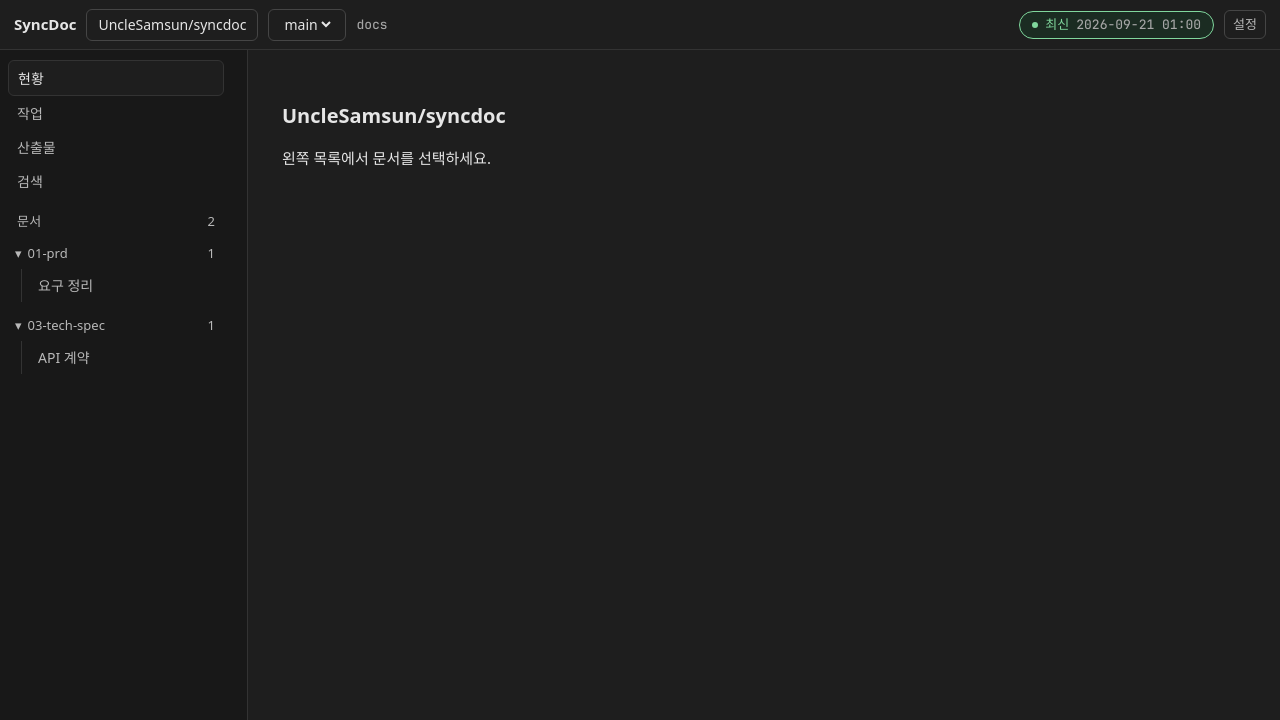
Test case: 문서 트리 › remembers a collapsed folder for the next visit
The image size is (1280, 720).
Check: the link "요구 정리" is shown, box [38, 276, 93, 294]
Click the button "▾ 01-prd 1" at coordinates (116, 252), box [8, 238, 224, 268]
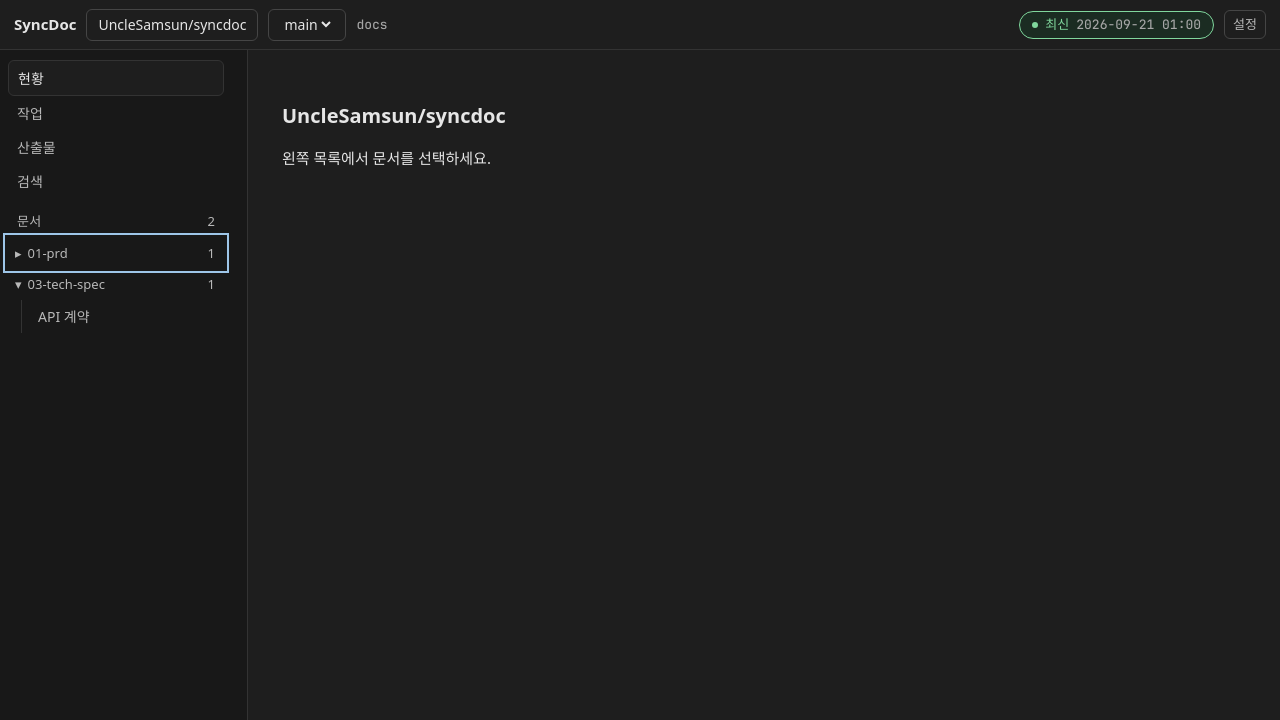
Check: the link "요구 정리" is gone
